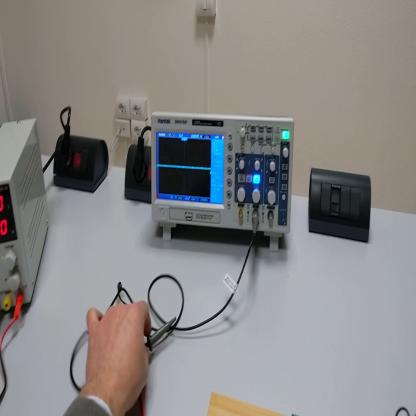hand: (85, 299, 154, 408)
oscilloscope: (151, 110, 296, 250)
oscilloscope probe tip: (147, 314, 178, 355)
power supply: (1, 118, 51, 315)
socket: (52, 135, 110, 197), (124, 144, 154, 206)
working area: (208, 392, 286, 416)
